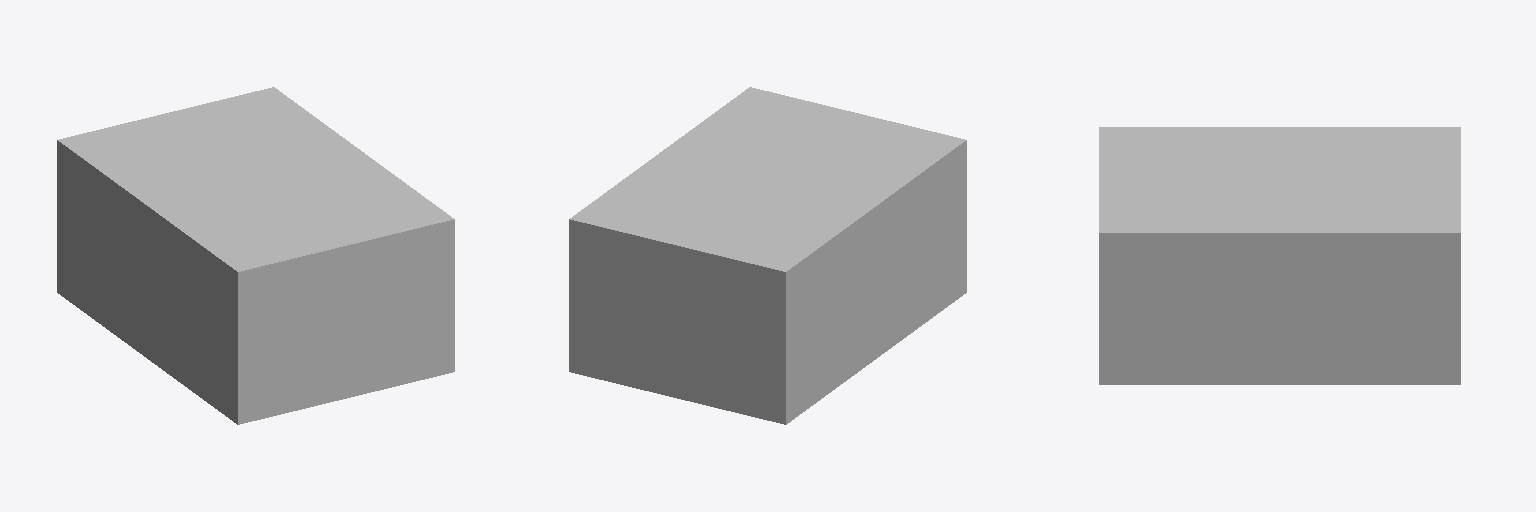
The model's file is tank_body.obj.
The picture shows the model from 3 angles: view 1: azimuth 30°, elevation 25°; view 2: azimuth 150°, elevation 25°; view 3: azimuth 270°, elevation 25°; orthographic projection.
Visible parts, largest first — view 1: body_physi_Cube.003, body_Cube; view 2: body_physi_Cube.003, body_Cube; view 3: body_physi_Cube.003, body_Cube.
Boxes of the visible parts, x1=… form: body_physi_Cube.003: x1=57, y1=87, x2=454, y2=424; body_Cube: x1=57, y1=134, x2=454, y2=424; body_physi_Cube.003: x1=569, y1=87, x2=966, y2=424; body_Cube: x1=569, y1=121, x2=966, y2=424; body_physi_Cube.003: x1=1099, y1=127, x2=1460, y2=384; body_Cube: x1=1099, y1=127, x2=1460, y2=384.
Size of the model in its own units: 3.47 by 2.34 by 5.01.